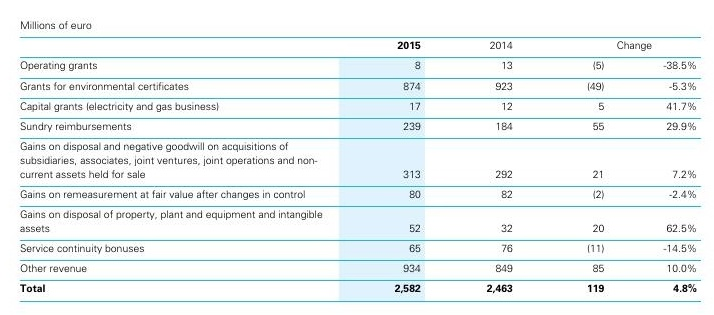table: (0, 0, 714, 315)
